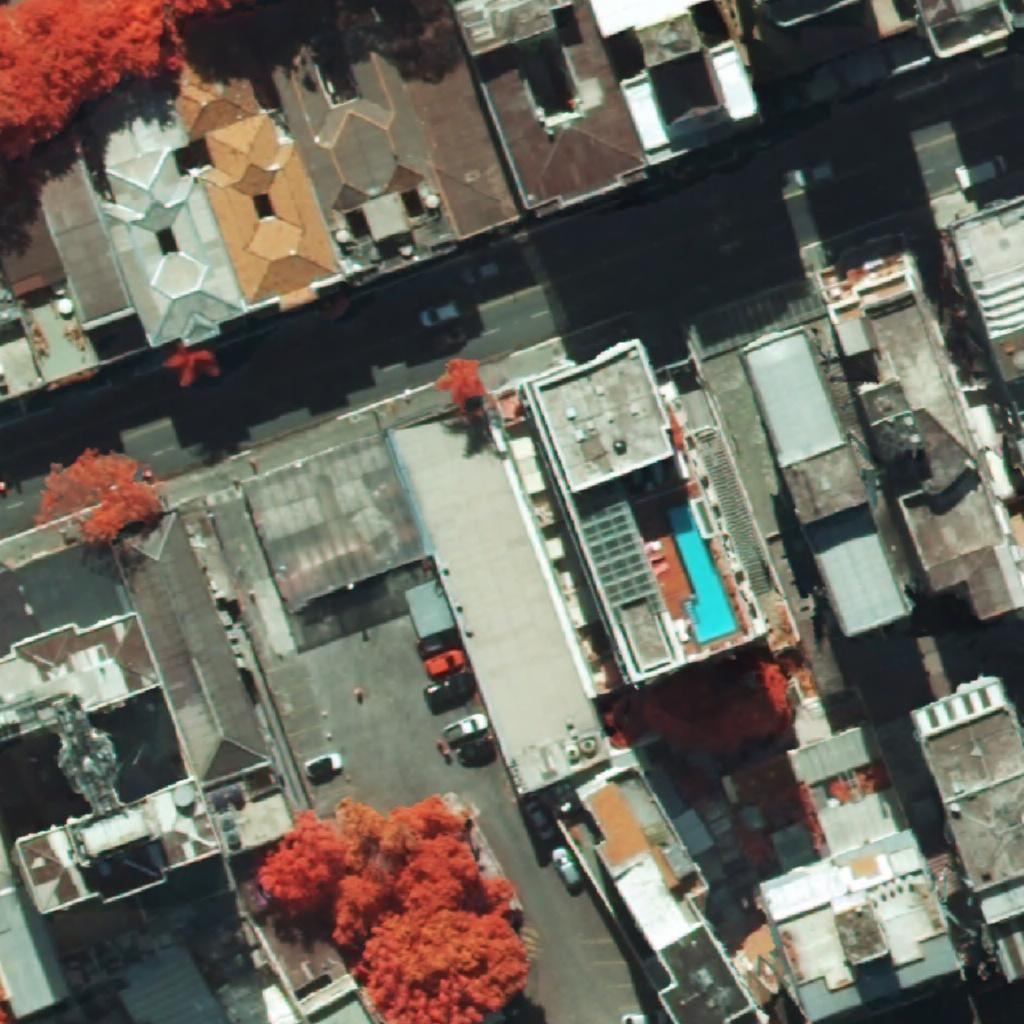pool: (665, 502, 739, 642)
